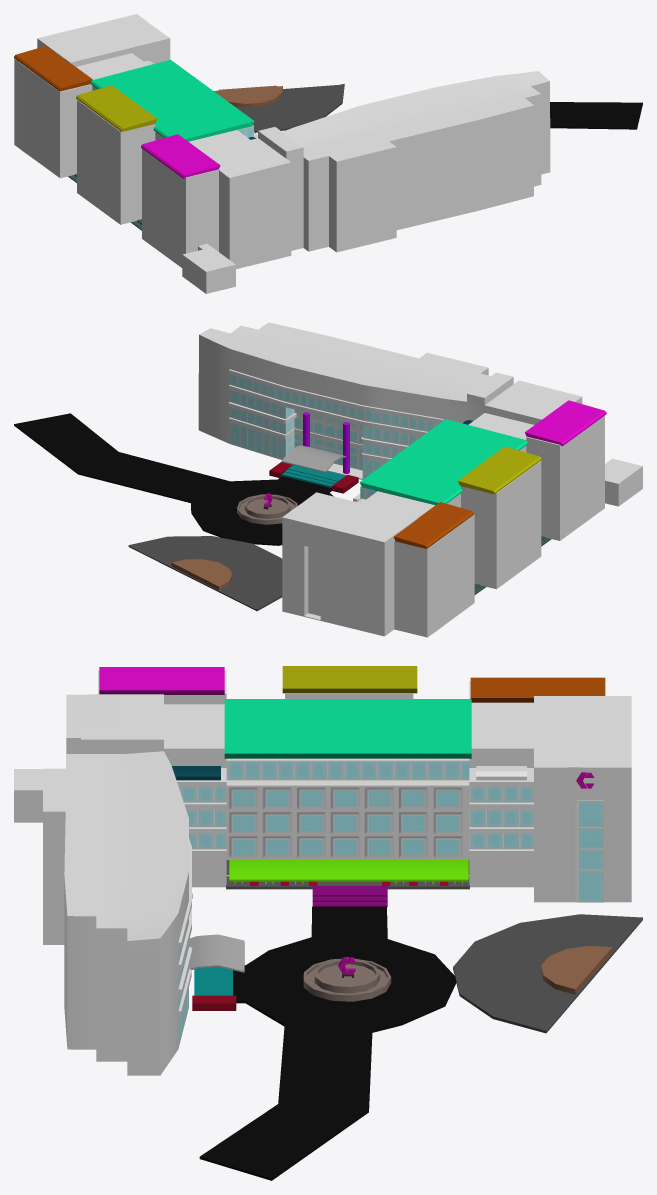
The model's file is camt_v5.fbx.
3 renders of one model, top to bottom at view 1: azimuth 30°, elevation 25°; view 2: azimuth 150°, elevation 25°; view 3: azimuth 270°, elevation 25°, orthographic. The views are drawn at different scales.
Parts seen in each view (by area): view 1: polySurface82, roof_1, polySurface78, road_1, roof_2, roof_4, roof_3, polySurface80; view 2: polySurface82, road_1, roof_1, polySurface78, roof_2, roof_4, roof_3, pCylinder7, polySurface80, roof_8, stairs_2; view 3: polySurface82, road_1, roof_1, polySurface78, roof_7, roof_2, roof_4, roof_3, pCylinder7, polySurface80, roof_8, floor (+4 smaller).
Boxes of the visible parts, bbox=[...] form: polySurface82: bbox=[14, 14, 550, 293]; roof_1: bbox=[90, 59, 254, 141]; polySurface78: bbox=[235, 83, 344, 132]; road_1: bbox=[550, 102, 642, 129]; roof_2: bbox=[76, 85, 157, 131]; roof_4: bbox=[141, 134, 220, 178]; roof_3: bbox=[14, 46, 92, 91]; polySurface80: bbox=[214, 85, 282, 107]; polySurface82: bbox=[198, 322, 642, 637]; road_1: bbox=[14, 413, 333, 545]; roof_1: bbox=[359, 419, 527, 505]; polySurface78: bbox=[128, 536, 282, 611]; roof_2: bbox=[458, 446, 541, 494]; roof_4: bbox=[525, 400, 606, 445]; roof_3: bbox=[394, 502, 473, 548]; pCylinder7: bbox=[237, 494, 297, 524]; polySurface80: bbox=[171, 559, 232, 590]; roof_8: bbox=[281, 445, 345, 472]; stairs_2: bbox=[282, 465, 345, 487]; polySurface82: bbox=[14, 670, 631, 1075]; road_1: bbox=[199, 906, 456, 1180]; roof_1: bbox=[224, 699, 471, 758]; polySurface78: bbox=[453, 914, 642, 1033]; roof_7: bbox=[229, 860, 468, 881]; roof_2: bbox=[282, 666, 417, 693]; roof_4: bbox=[99, 667, 224, 694]; roof_3: bbox=[470, 677, 605, 702]; pCylinder7: bbox=[303, 958, 391, 1001]; polySurface80: bbox=[541, 946, 612, 994]; roof_8: bbox=[189, 934, 244, 972]; floor: bbox=[226, 860, 469, 889].
Bounding box in the file's own units: 9580 × 1796 × 6771.
23 materials, 1 textured.
